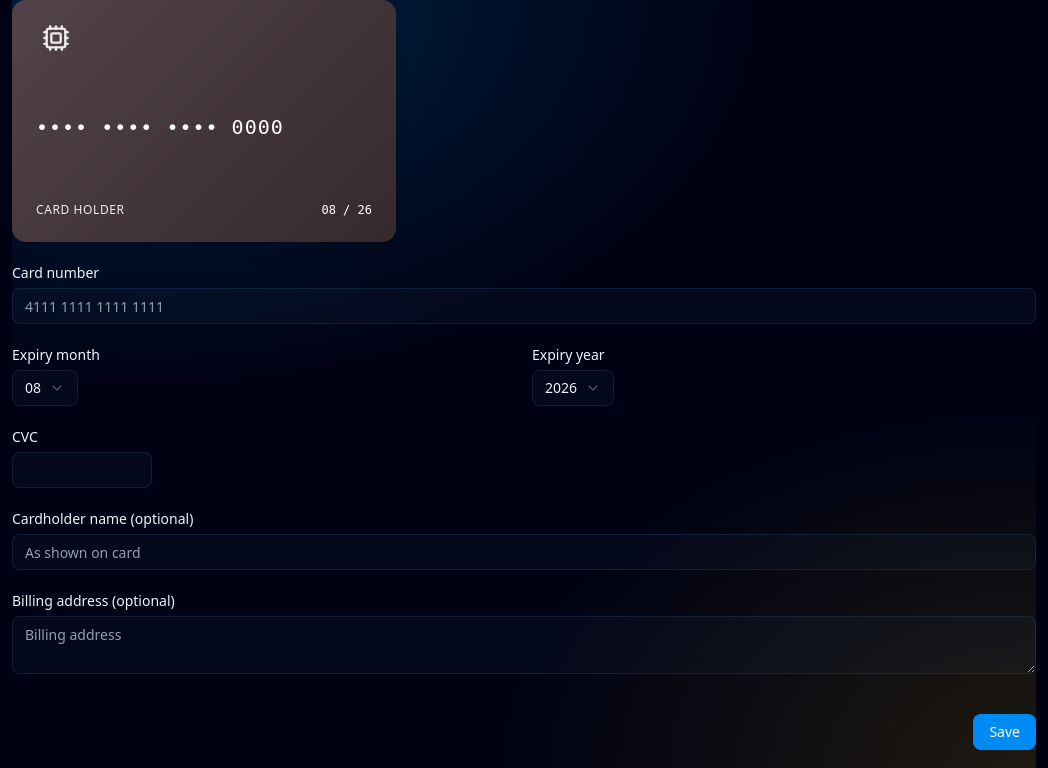
CreditCardForm › F2: Visa 번호 입력 → brand 실시간 감지
PatternFormat 은 placeholder character 를 포함하는 input 이므로 aria-label 로 찾음
Type "4111111111111111" into the field labelled "Card number" at (524, 306), box [12,288,1036,324]
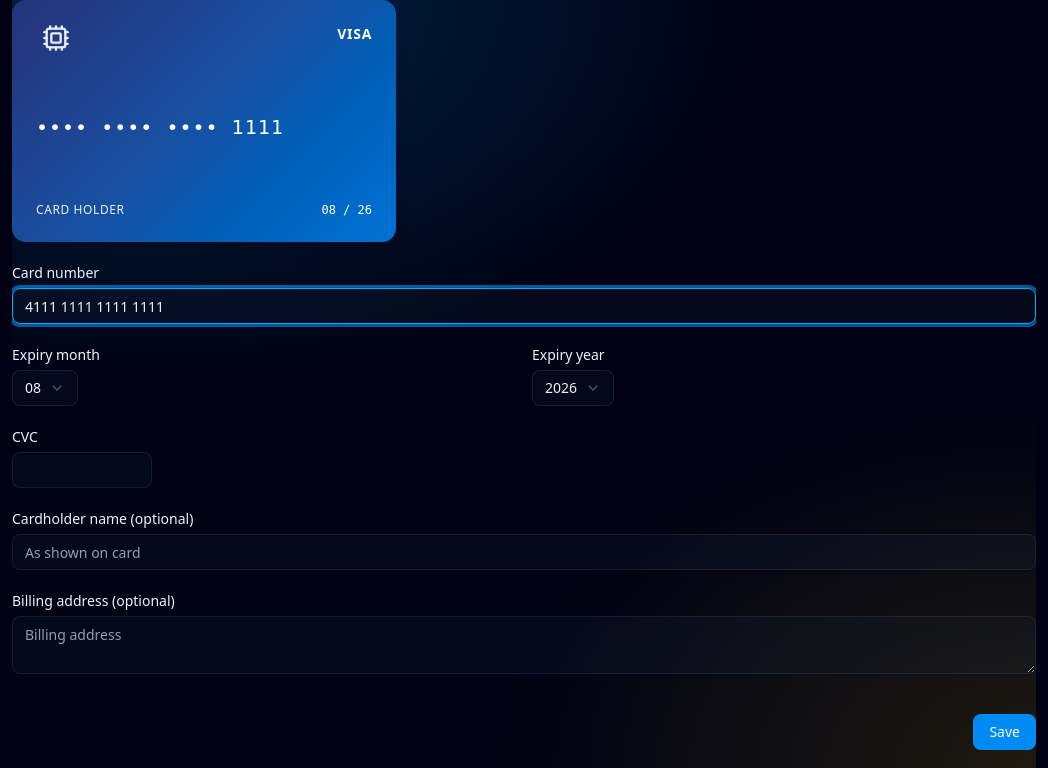
Result: the button with aria-label "credit card ending in 1111" is shown at [12,0,396,242]
